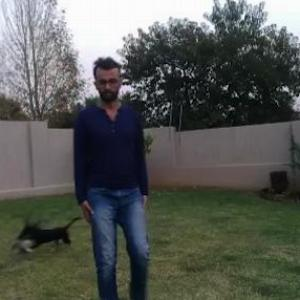follow: (75, 58, 149, 299)
